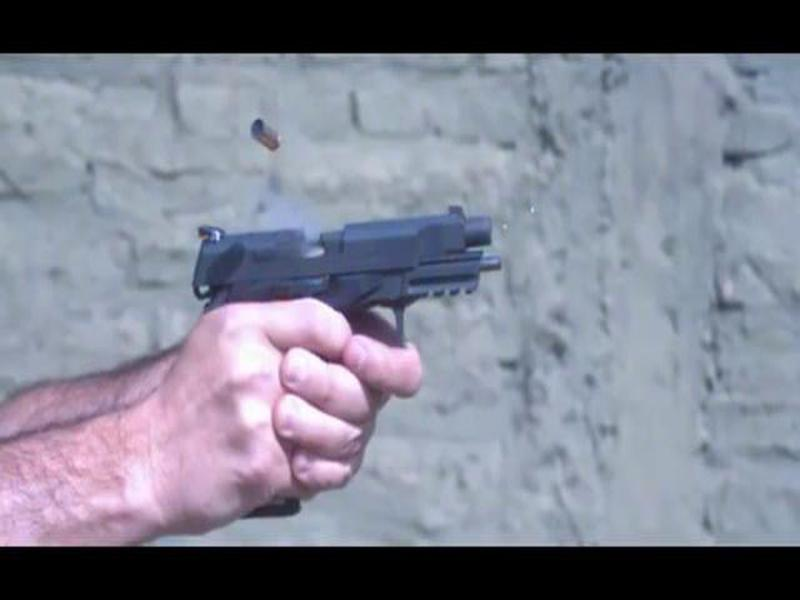Pistola: (171, 193, 527, 365)
